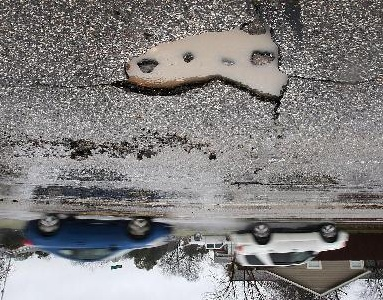pothole: (114, 23, 292, 104), (33, 183, 158, 202), (341, 202, 383, 211)
